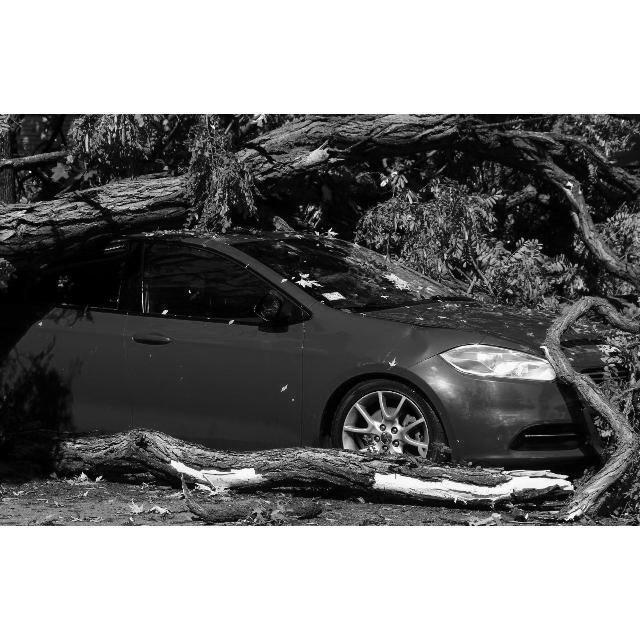bonnet-dent: (375, 305, 640, 359)
